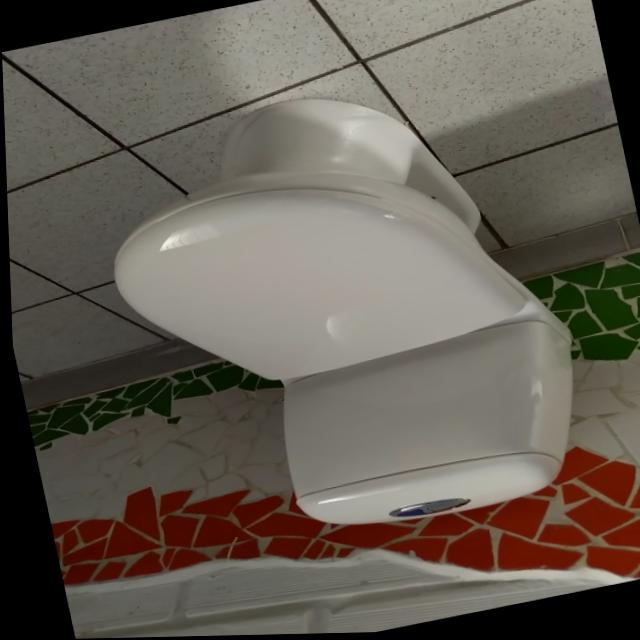toilet: (81, 56, 603, 571)
